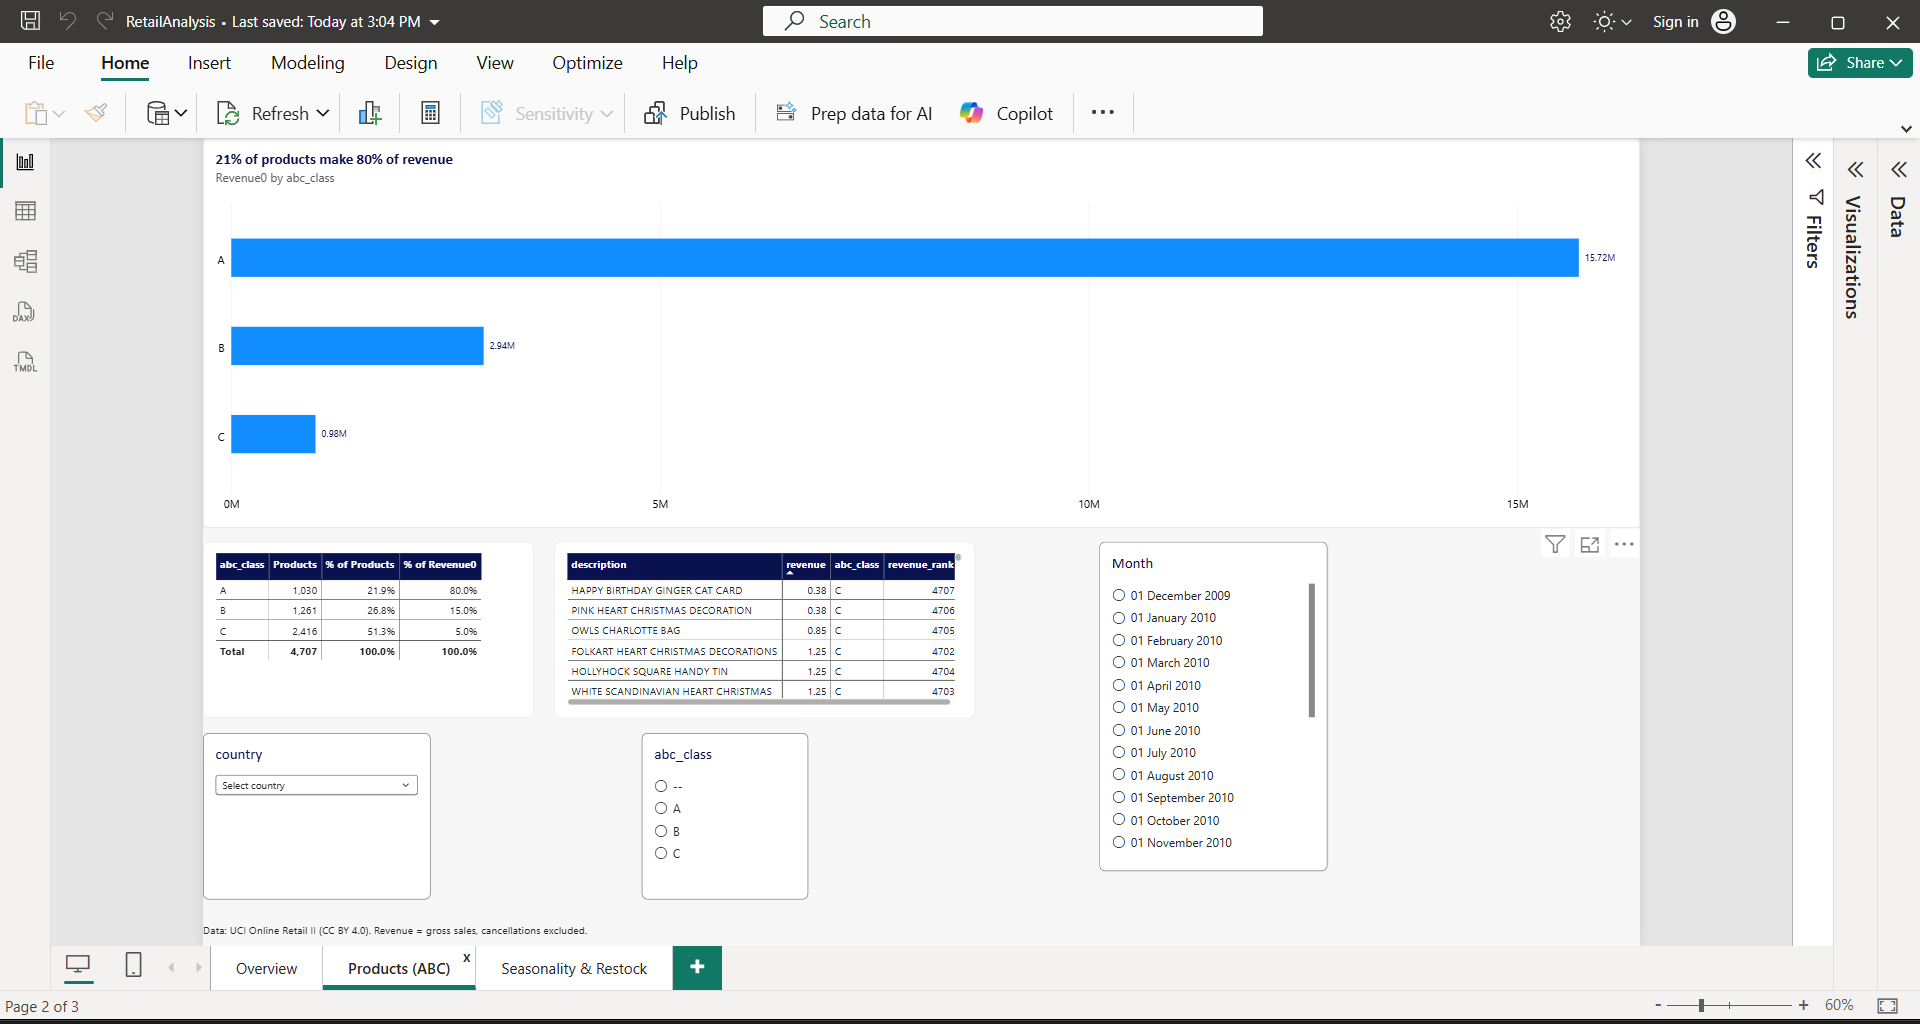

The page's visual inventory and layout, read from the dashboard file:
{"tool":"powerbi","page":{"name":"Products (ABC)","canvas":[1920,1080],"ordinal":1},"visuals":[{"type":"clusteredBarChart","title":"21% of products make 80% of revenue","fields":{"Category":["v_product_abc.abc_class"],"Y":["v_sales_fact.Revenue0"]},"box":[0,0,1920.1,521.2],"z":0},{"type":"tableEx","fields":{"Values":["v_product_abc.abc_class","v_sales_fact.Products","v_sales_fact.% of Products","v_sales_fact.% of Revenue0"]},"box":[0,539.3,441.6,235.3],"z":1000},{"type":"tableEx","fields":{"Values":["v_product_abc.description","v_product_abc.revenue","v_product_abc.abc_class","v_product_abc.revenue_rank"]},"box":[468.7,539.3,561.4,235.8],"z":2000},{"type":"listSlicer","fields":{"Values":["v_product_abc.abc_class"]},"box":[586.3,794.4,222.6,222.6],"z":3000},{"type":"listSlicer","fields":{"Values":["DateTable.Month"]},"box":[1198,539.3,305,440],"z":4000},{"type":"listSlicer","fields":{"Values":["v_sales_fact.country"]},"box":[0,794.4,304,222.6],"z":5000},{"type":"textbox","box":[0,1047.8,1920.1,32.6],"z":6000}]}

Visuals, with their boxes on the page's 1920x1080 design canvas (x1, y1, x2, y2). These are canvas units, not pixel positions in the 1920x1024 screenshot, which may show the page scaled, cropped or inside an application window:
"21% of products make 80% of revenue" clusteredBarChart: crop(0, 0, 1920, 521)
tableEx - v_product_abc.abc_class x v_sales_fact.Products: crop(0, 539, 442, 775)
tableEx - v_product_abc.description x v_product_abc.revenue: crop(469, 539, 1030, 775)
listSlicer - v_product_abc.abc_class: crop(586, 794, 809, 1017)
listSlicer - DateTable.Month: crop(1198, 539, 1503, 979)
listSlicer - v_sales_fact.country: crop(0, 794, 304, 1017)
textbox: crop(0, 1048, 1920, 1080)
